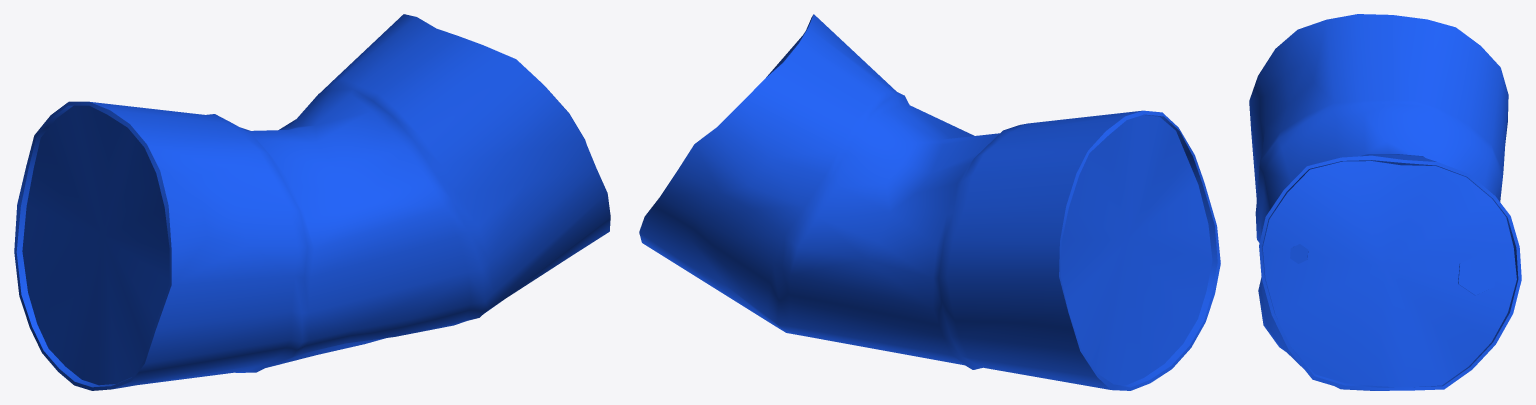
Rendered from barrel_damage4.fbx.
3 views of the same model, side by side, from view 1: azimuth 30°, elevation 25°; view 2: azimuth 150°, elevation 25°; view 3: azimuth 270°, elevation 25° (orthographic). The views are drawn at different scales.
Parts seen in each view (by area): view 1: barrel_damage4; view 2: barrel_damage4; view 3: barrel_damage4.
Part boxes in pixels (box(x1,y1,x2,y2)): barrel_damage4: box(14, 14, 610, 390); barrel_damage4: box(639, 14, 1220, 390); barrel_damage4: box(1249, 14, 1521, 390).
Size of the model in its own units: 98.64 by 50.79 by 51.84.
